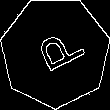P_SW: (25, 24, 85, 80)
